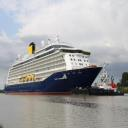cruises: (4, 32, 105, 98)
